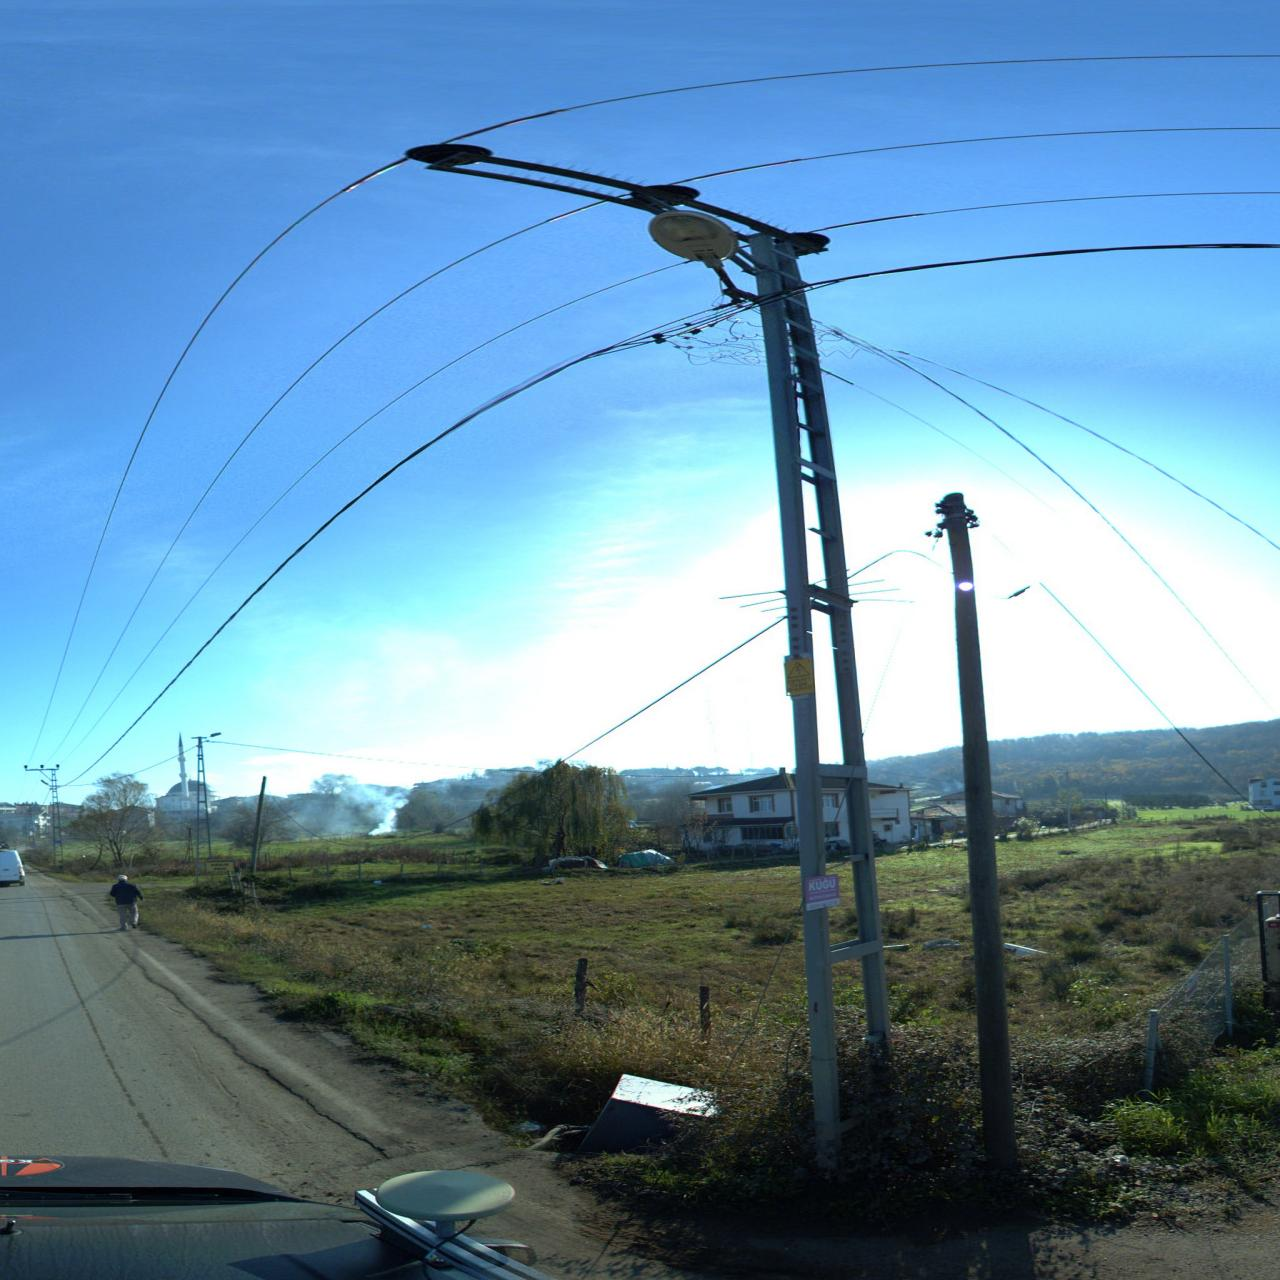Utility Pole Information Plate: (781, 655, 811, 694)
